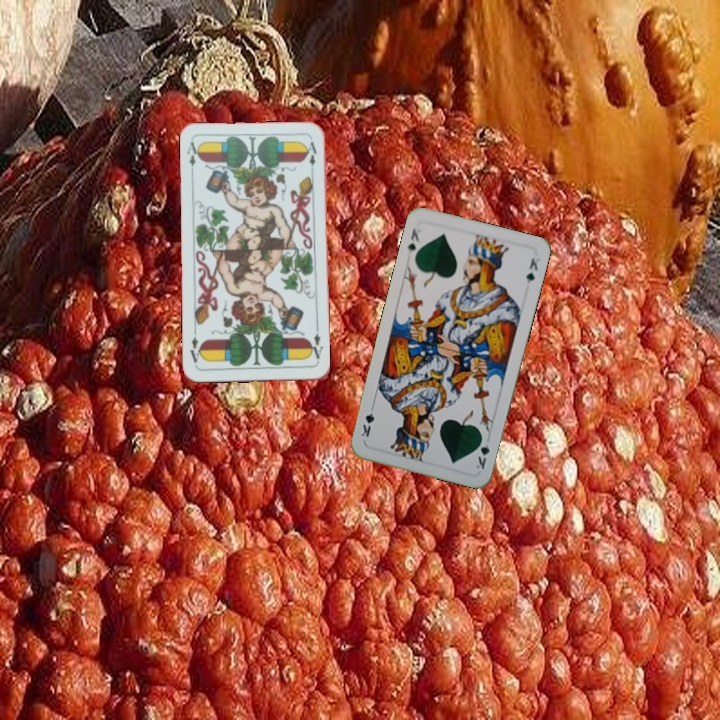EA: (306, 324, 325, 365), (183, 138, 202, 178)
GK: (472, 432, 492, 472), (403, 224, 422, 256)
